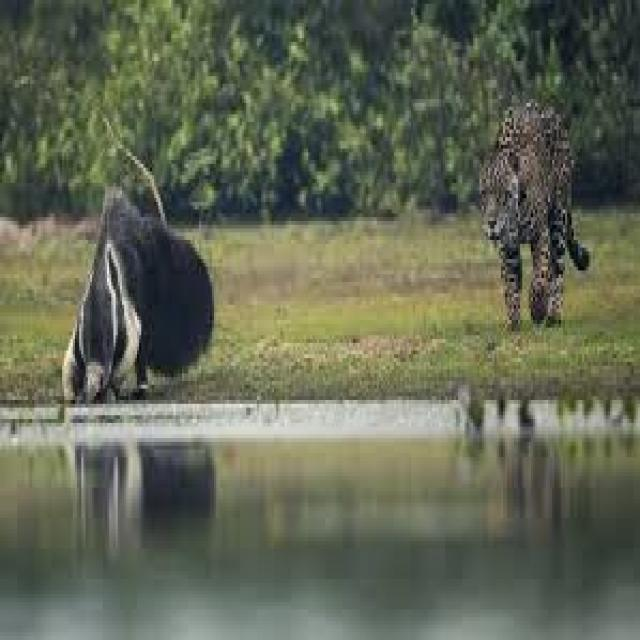Jaguar: (479, 95, 593, 335)
